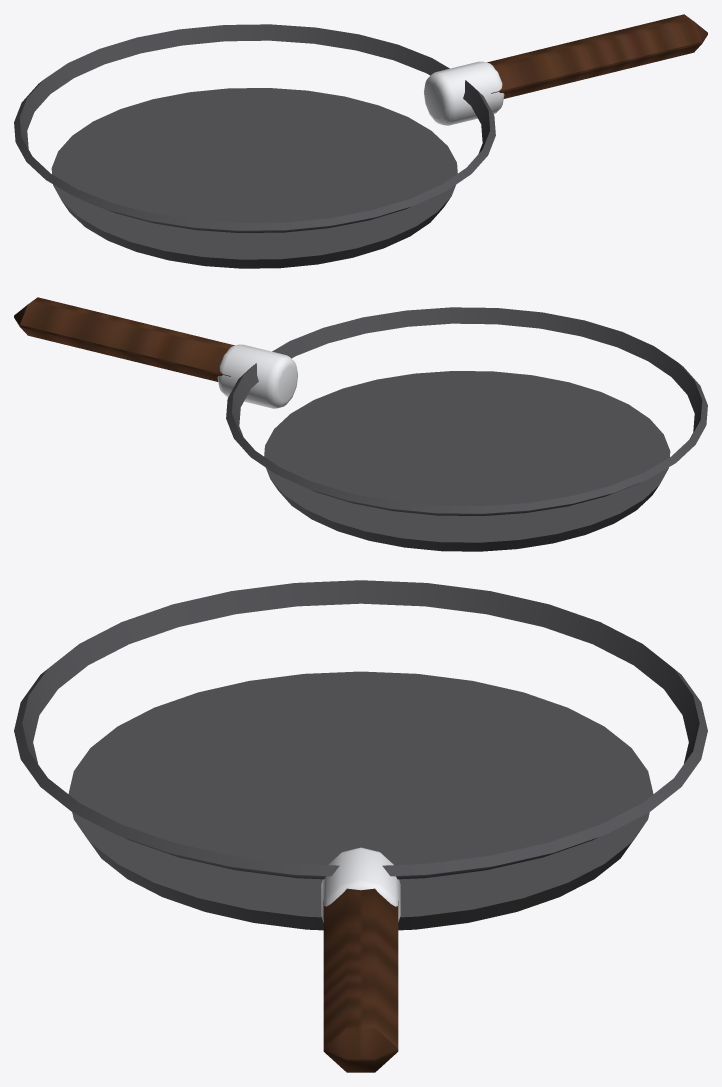
The model's file is kr_pan.glb.
3 views of the same model, one above another, from view 1: azimuth 30°, elevation 25°; view 2: azimuth 150°, elevation 25°; view 3: azimuth 270°, elevation 25° (orthographic). The views are drawn at different scales.
Parts seen in each view (by area): view 1: vc_m8_r4, kr_pan_darkwood, vc_m8_r2; view 2: vc_m8_r4, kr_pan_darkwood, vc_m8_r2; view 3: vc_m8_r4, kr_pan_darkwood, vc_m8_r2.
Boxes of the visible parts, x1,y1,x2,y2 form: vc_m8_r4: (14,24,495,268); kr_pan_darkwood: (487,14,707,98); vc_m8_r2: (424,61,504,125); vc_m8_r4: (226,307,707,551); kr_pan_darkwood: (14,297,234,381); vc_m8_r2: (217,344,297,408); vc_m8_r4: (14,580,707,930); kr_pan_darkwood: (323,888,398,1072); vc_m8_r2: (321,847,400,922).
Bounding box in the file's own units: 0.66 × 0.064 × 0.42.
Materials: 3 (1 with a texture image).
